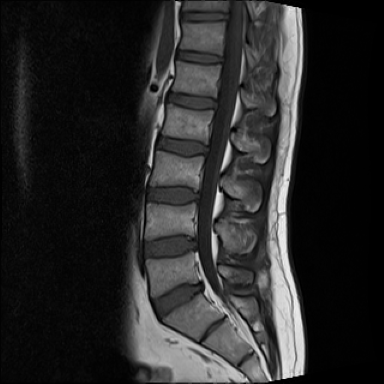Lumbar Disc Bulge (LDB): (148, 277, 208, 322)
Normal IVD: (155, 129, 211, 162), (141, 232, 202, 262), (142, 183, 200, 206), (166, 89, 219, 112), (173, 50, 227, 67), (179, 11, 231, 26)
Spinal Stenosis (SS): (194, 276, 207, 299)
